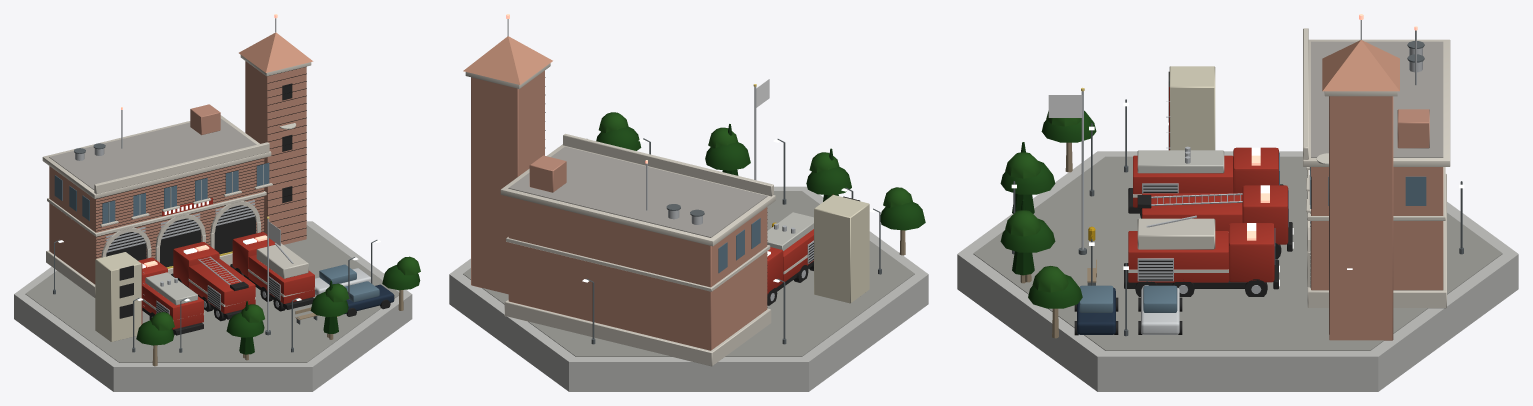
The model's file is fireStation_med.glb.
3 views of the same model, side by side, from view 1: azimuth 30°, elevation 25°; view 2: azimuth 150°, elevation 25°; view 3: azimuth 270°, elevation 25° (orthographic). The views are drawn at different scales.
Parts seen in each view (by area): view 1: brick, wall_concrete, pavers, stone, paint, dark, gravel, leaf, glass, metal, roof_tile, steel_dark (+1 smaller); view 2: brick, wall_concrete, stone, pavers, gravel, leaf, paint, roof_tile, steel_dark, metal, glass, dark; view 3: pavers, wall_concrete, brick, paint, stone, leaf, gravel, dark, roof_tile, metal, glass, steel_dark (+2 smaller).
Boxes of the visible parts, x1=… form: brick: x1=49, y1=61, x2=306, y2=284; wall_concrete: x1=14, y1=164, x2=412, y2=391; pavers: x1=25, y1=225, x2=399, y2=362; stone: x1=42, y1=55, x2=311, y2=341; paint: x1=138, y1=123, x2=394, y2=329; dark: x1=96, y1=66, x2=390, y2=335; gravel: x1=49, y1=118, x2=256, y2=189; leaf: x1=136, y1=256, x2=420, y2=354; glass: x1=54, y1=163, x2=379, y2=302; metal: x1=75, y1=18, x2=293, y2=331; roof_tile: x1=239, y1=32, x2=313, y2=72; steel_dark: x1=53, y1=143, x2=377, y2=352; brick: x1=471, y1=70, x2=767, y2=350; wall_concrete: x1=449, y1=186, x2=928, y2=391; stone: x1=465, y1=63, x2=869, y2=366; pavers: x1=463, y1=191, x2=914, y2=356; gravel: x1=508, y1=146, x2=767, y2=237; leaf: x1=596, y1=112, x2=925, y2=230; paint: x1=767, y1=194, x2=833, y2=294; roof_tile: x1=463, y1=36, x2=552, y2=84; steel_dark: x1=586, y1=138, x2=881, y2=344; metal: x1=507, y1=19, x2=813, y2=300; glass: x1=718, y1=218, x2=760, y2=273; dark: x1=545, y1=77, x2=859, y2=307; pavers: x1=973, y1=156, x2=1502, y2=350; wall_concrete: x1=957, y1=151, x2=1518, y2=391; brick: x1=1311, y1=96, x2=1443, y2=340; paint: x1=1077, y1=87, x2=1328, y2=334; stone: x1=1169, y1=28, x2=1450, y2=308; leaf: x1=1000, y1=110, x2=1096, y2=308; gravel: x1=1311, y1=41, x2=1443, y2=157; dark: x1=1074, y1=71, x2=1329, y2=335; roof_tile: x1=1322, y1=40, x2=1399, y2=91; metal: x1=1081, y1=20, x2=1422, y2=293; glass: x1=1079, y1=152, x2=1426, y2=312; steel_dark: x1=1012, y1=41, x2=1463, y2=336.
Bounding box in the file's own units: 21.3 × 16.8 × 24.6.
